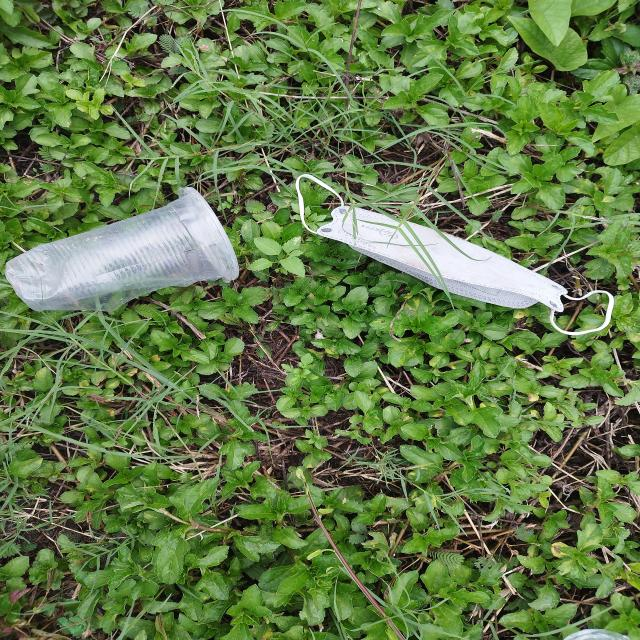mask: (298, 173, 612, 334)
plastic glass: (4, 186, 241, 312)
